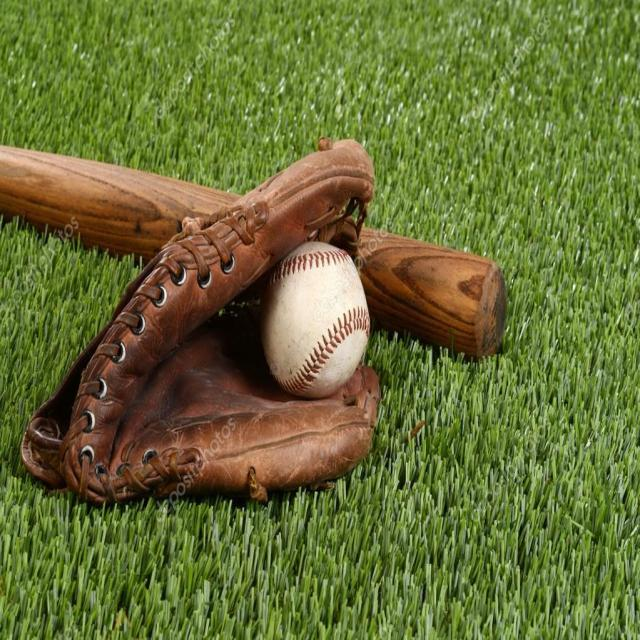baseball: (257, 242, 370, 403)
